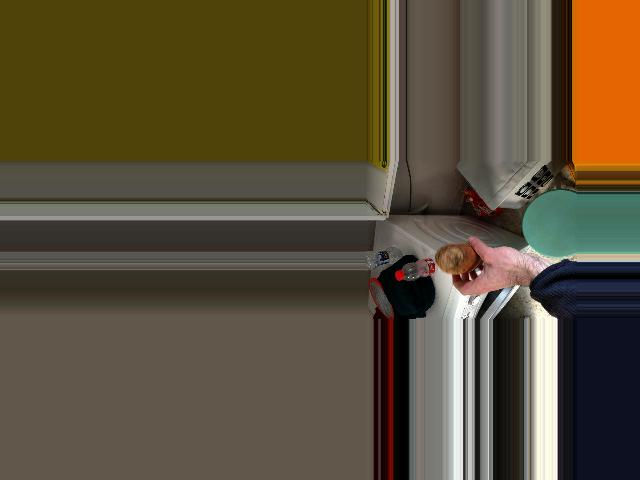sweet_potato: (436, 239, 488, 281)
